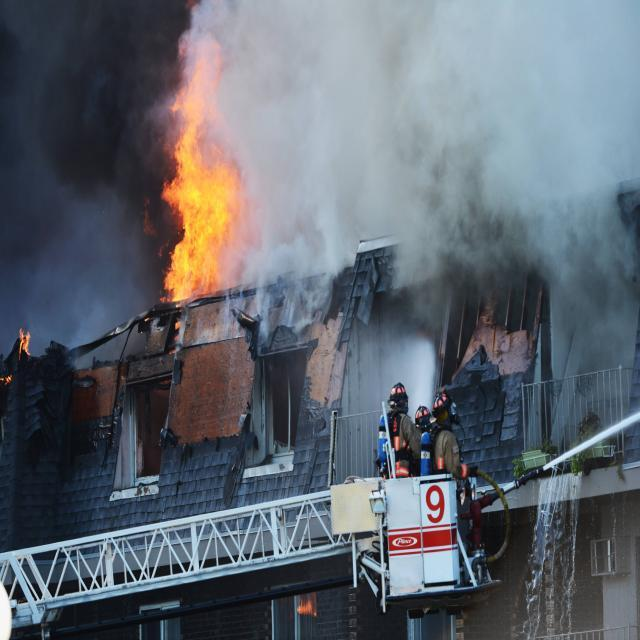Fire: (145, 23, 244, 306), (18, 326, 32, 360), (2, 369, 14, 385)
Smoke: (223, 0, 640, 268), (2, 2, 146, 326), (549, 268, 640, 373), (67, 318, 144, 372), (246, 266, 268, 347), (144, 0, 222, 21)
